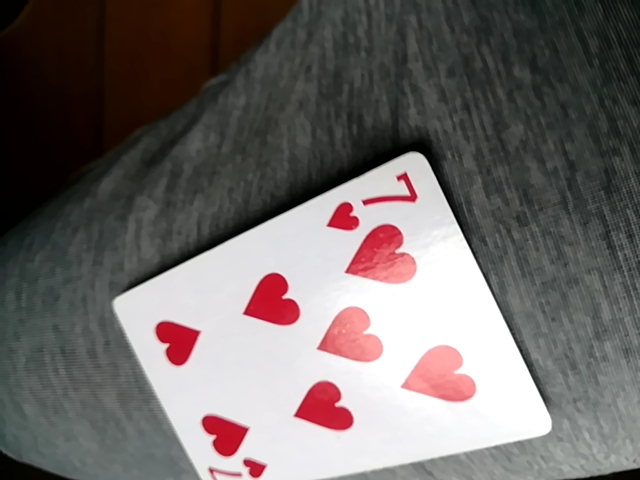hx 7: (119, 147, 561, 479)
